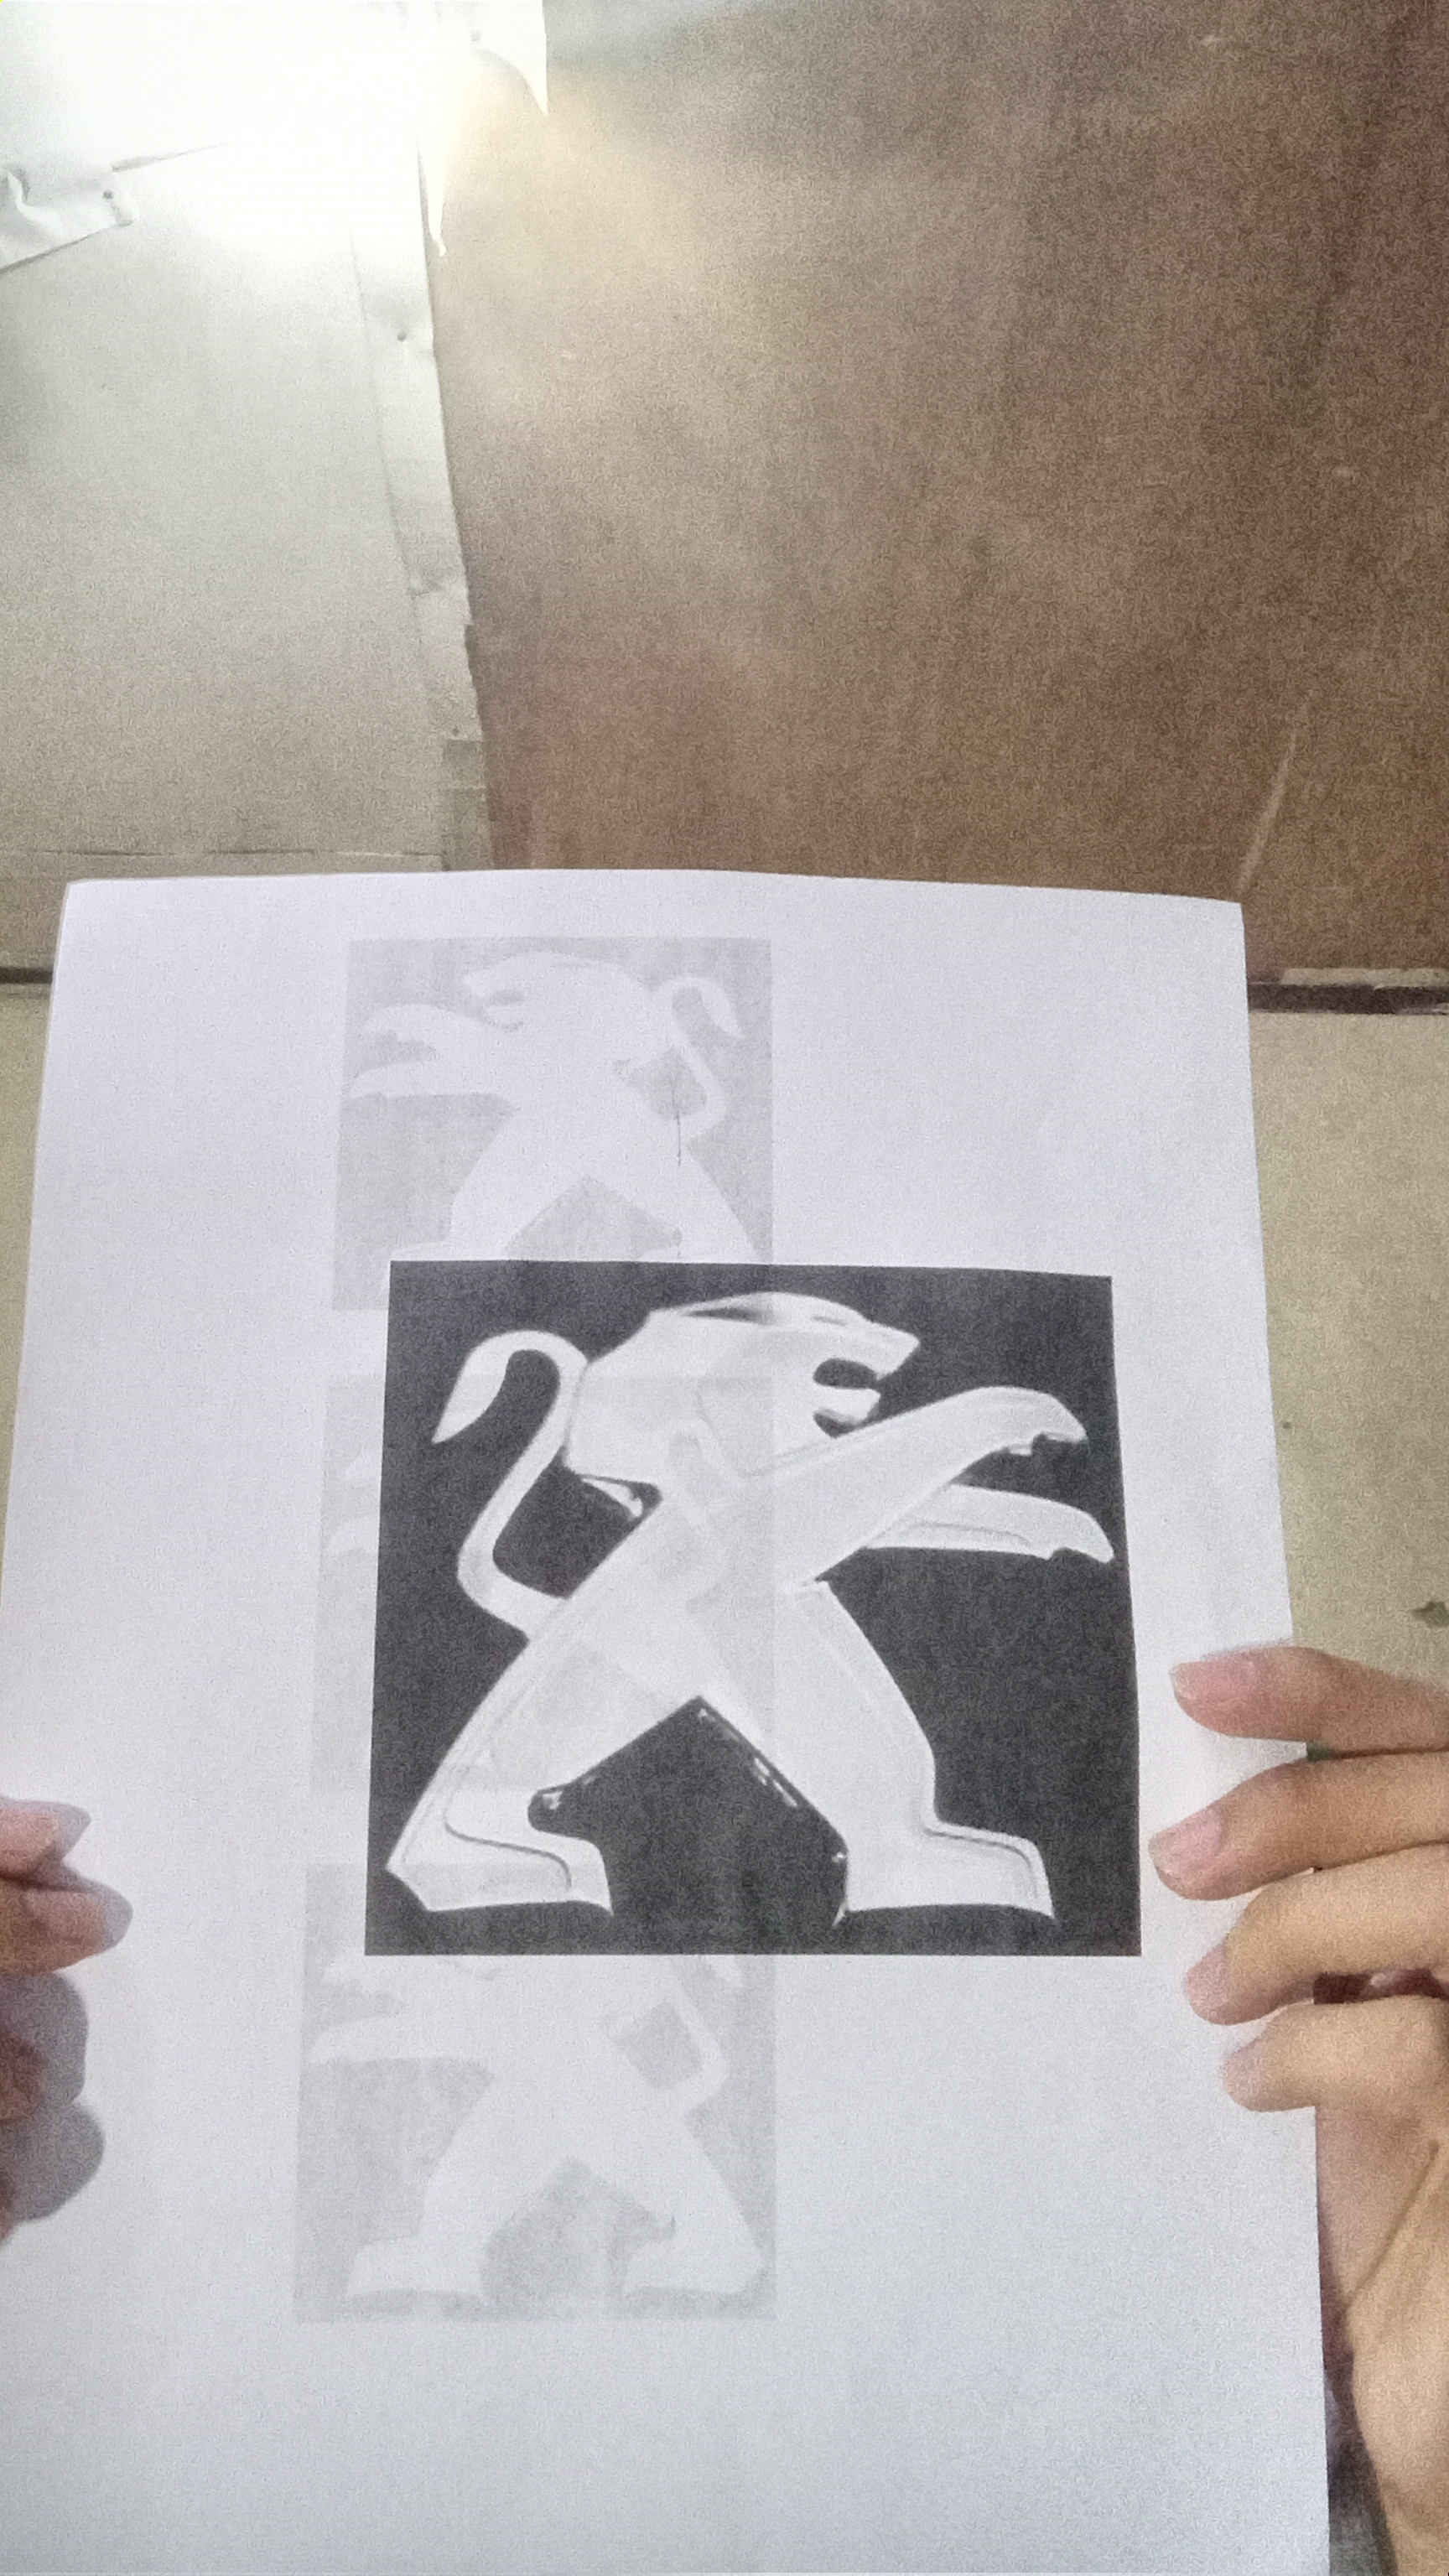Peugeot: (389, 1267, 1123, 1950)
